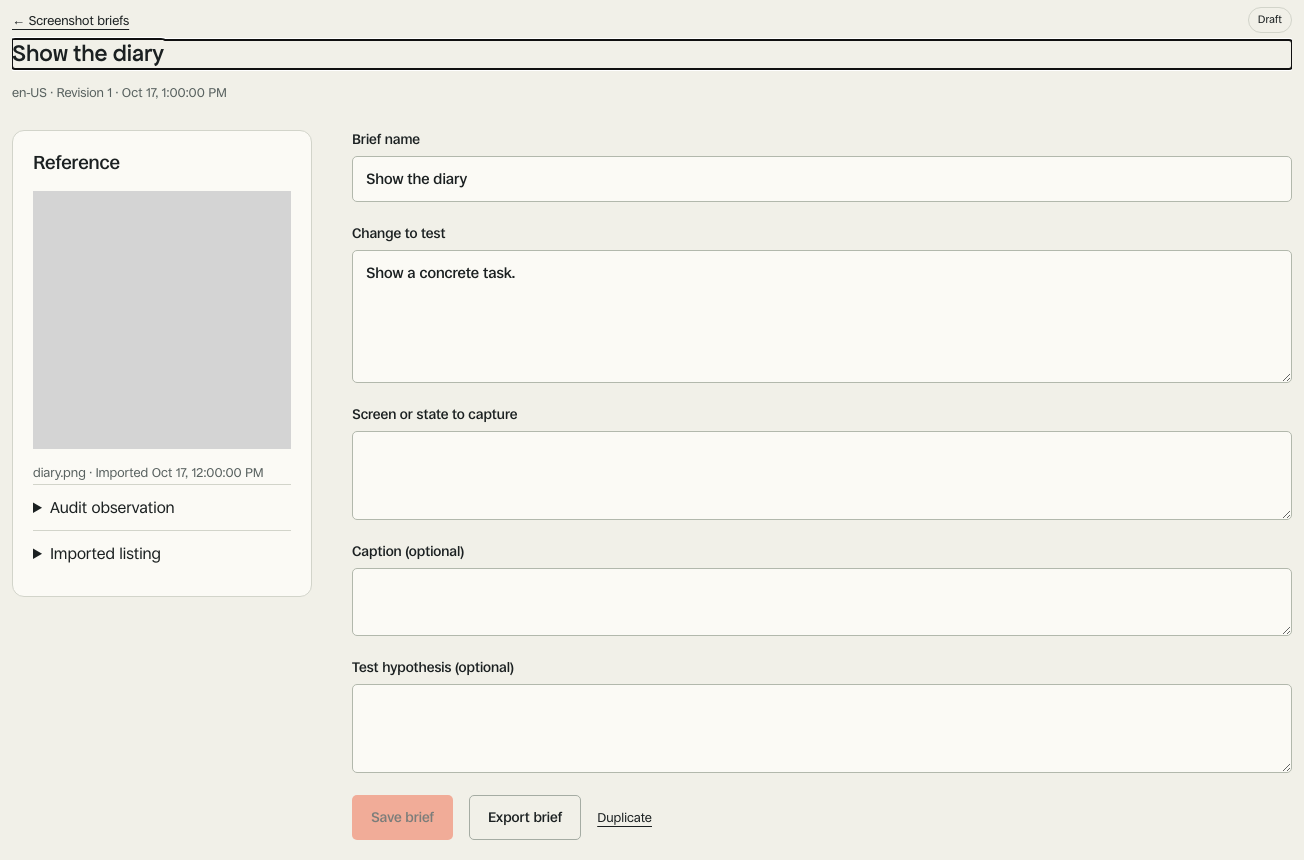
Test: requires saved fields and a human confirmation before marking ready
The width and height of the screenshot is (1304, 860).
Type "Diary screen" into the text box labelled "Screen or state to capture". click: [822, 475]
box: [352, 431, 1292, 520]
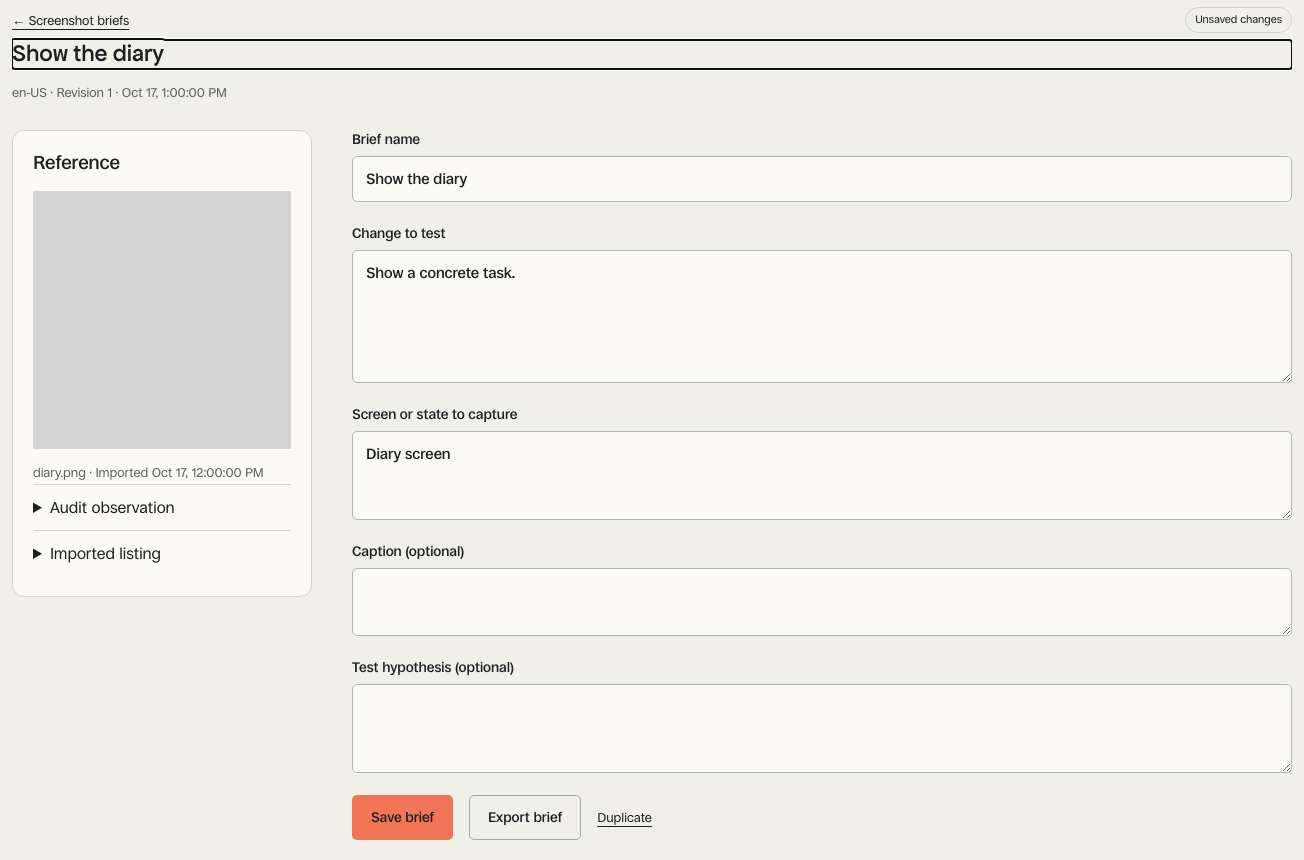
Click the button "Save brief". click: [402, 817]
box: [352, 795, 453, 840]
(page scrolled)
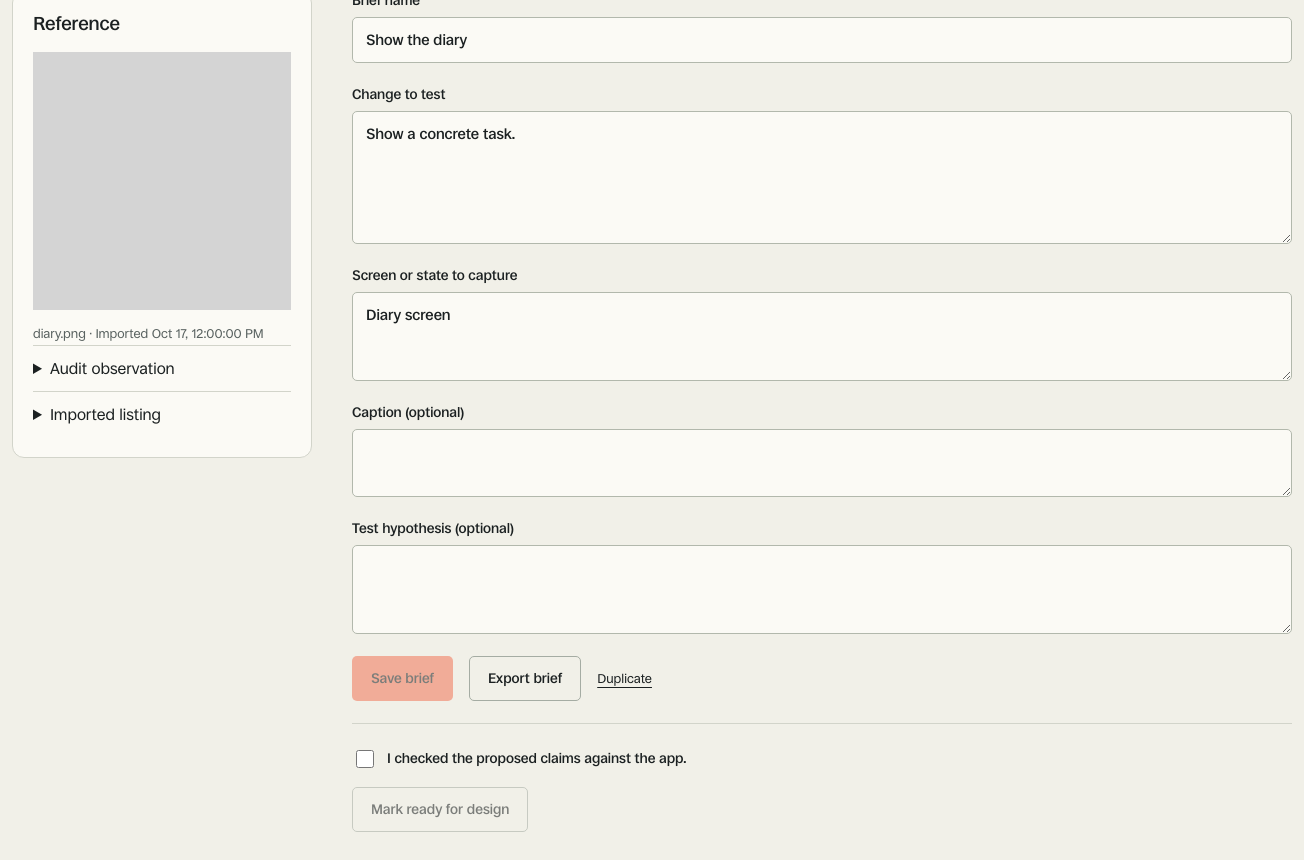
expect the button "Mark ready for design" is disabled: met, box [352, 787, 528, 832]
expect the checkbox is enabled: met
Click the checkbox. click: [365, 759]
box: [356, 750, 374, 768]
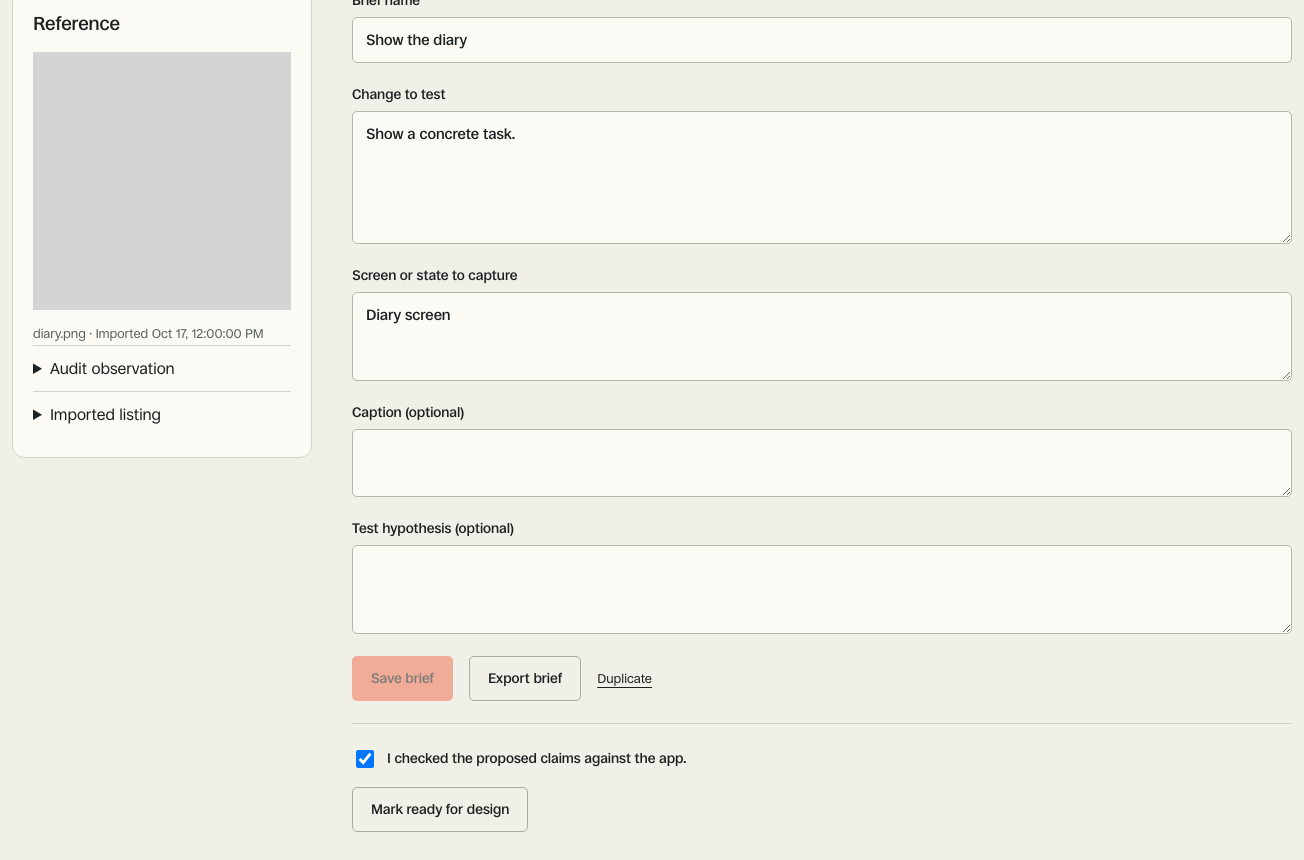
Click the button "Mark ready for design". click: [440, 809]
box: [352, 787, 528, 832]
(page scrolled)
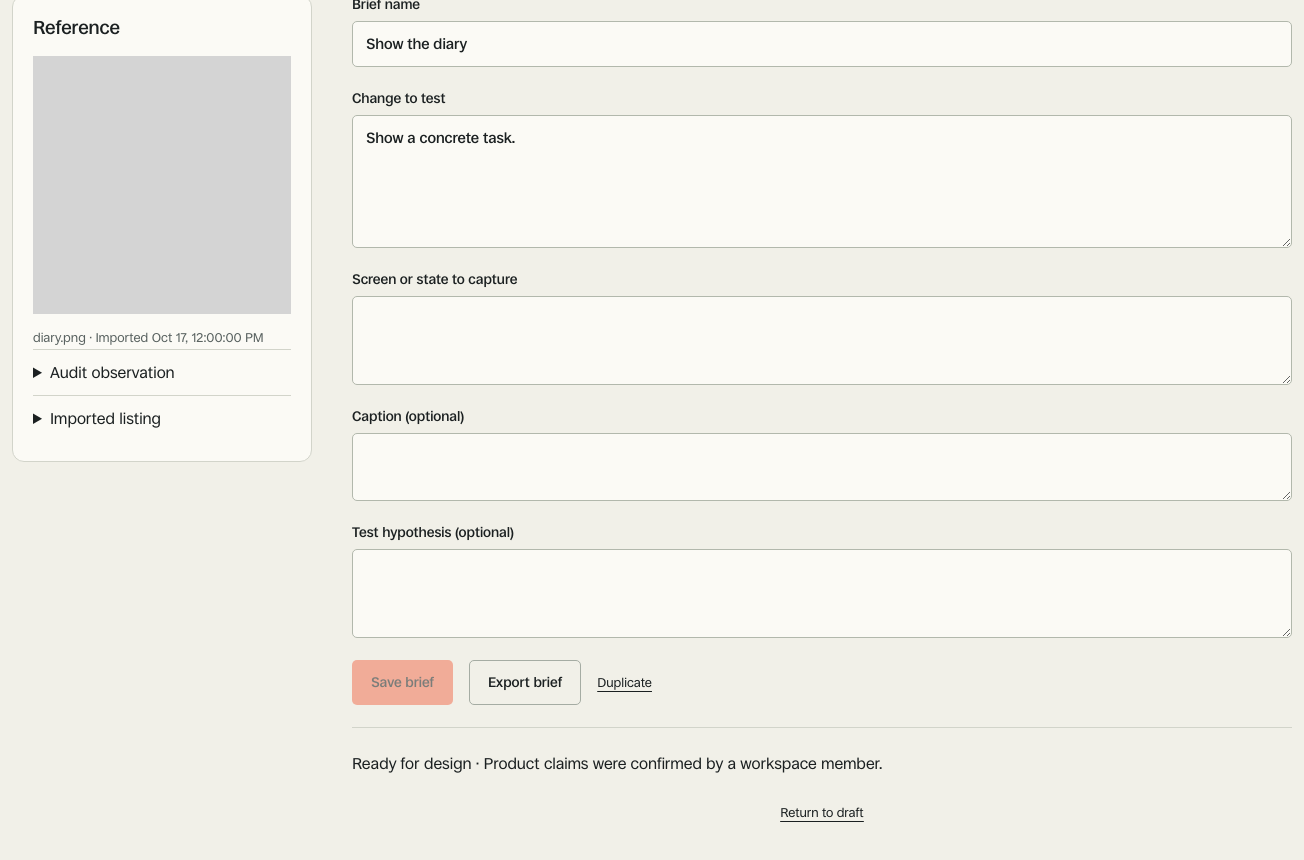
Type "New claim" into the text box labelled "Caption (optional)". click: [822, 467]
box: [352, 433, 1292, 500]
(page scrolled)
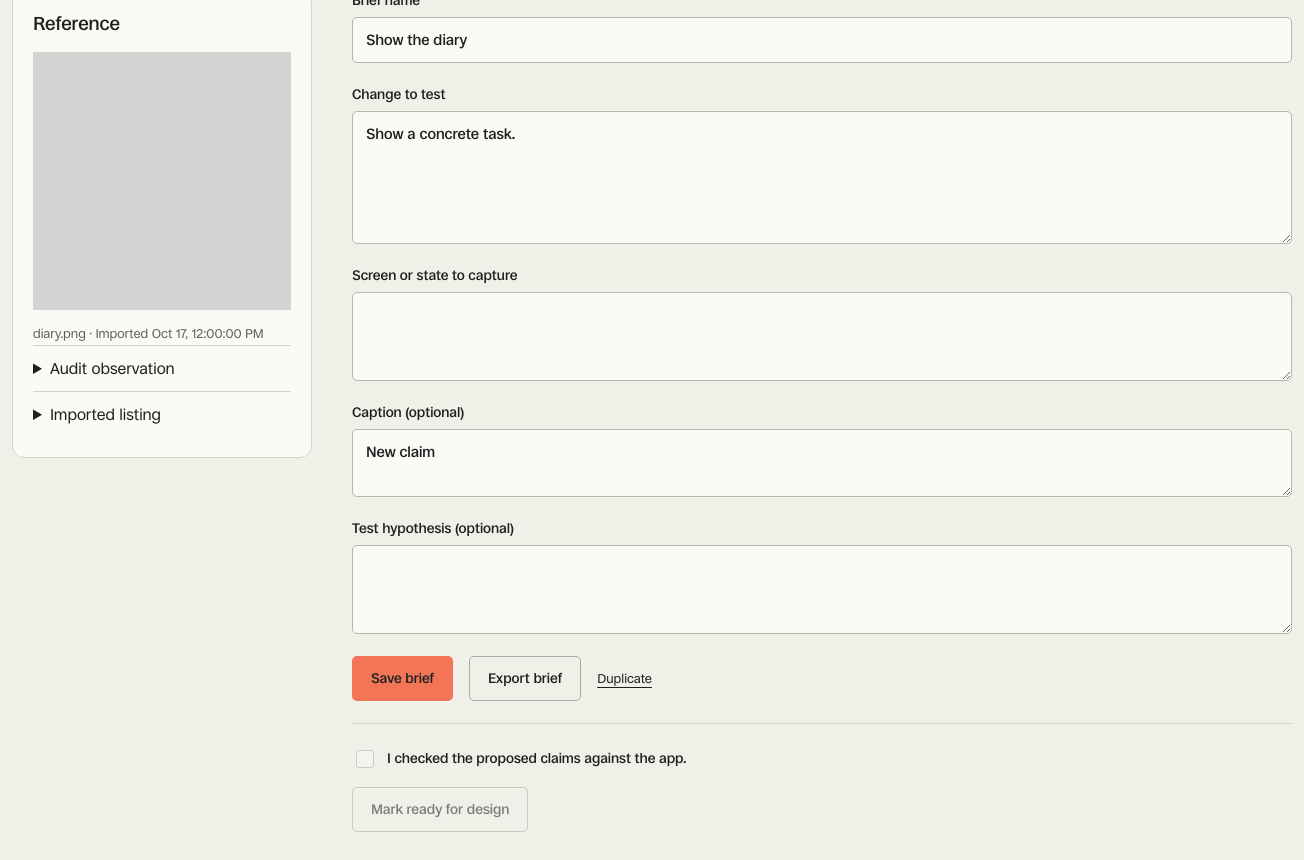
expect the button "Mark ready for design" is disabled: met, box [352, 787, 528, 832]
